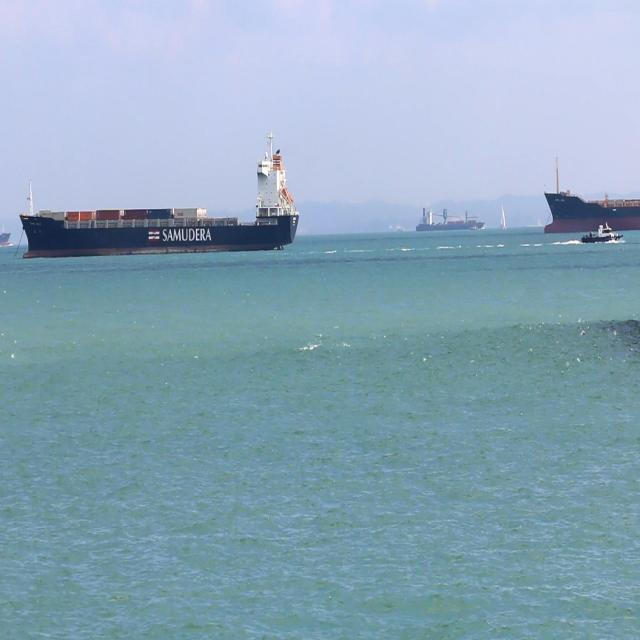ship2: (18, 131, 300, 260), (416, 208, 486, 232), (579, 222, 624, 245)
